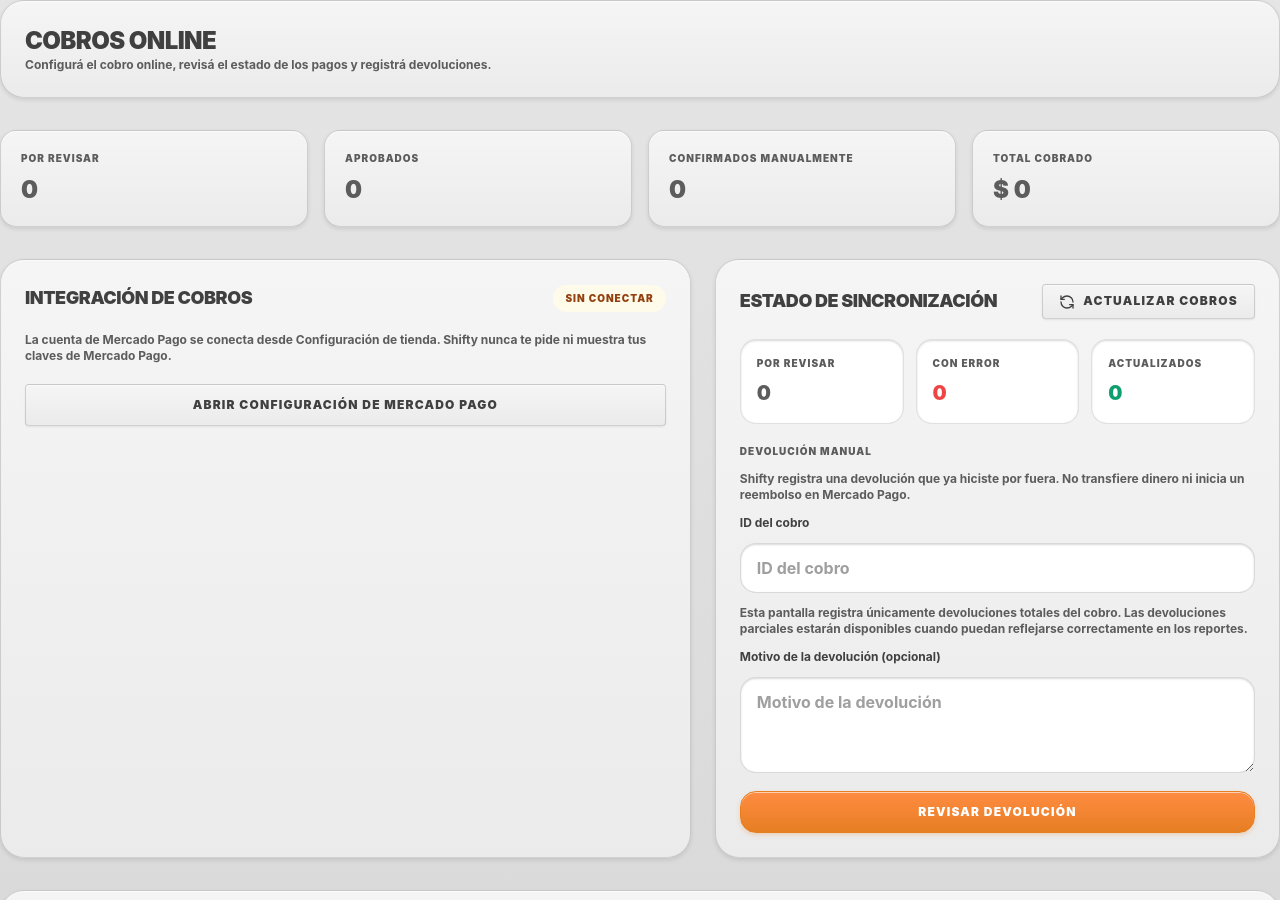
Test: PaymentsPage: registro seguro de devoluciones totales › no permite registrar con un ID de cobro vacío
Click the button "Revisar devolución": coordinates (997, 812) x1=740 y1=791 x2=1255 y2=833
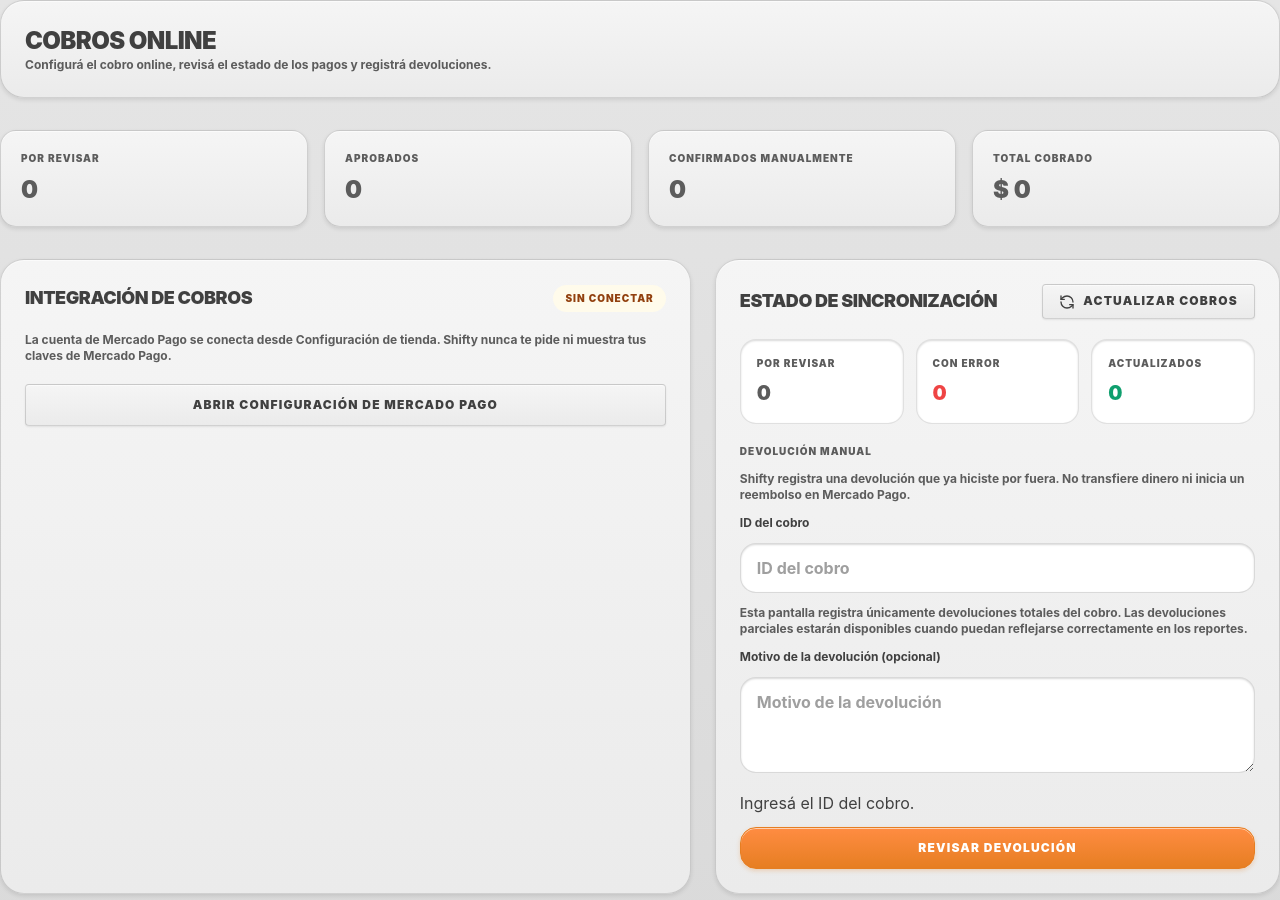
Now the message shows "Ingresá el ID del cobro", box x1=740 y1=793 x2=914 y2=813
